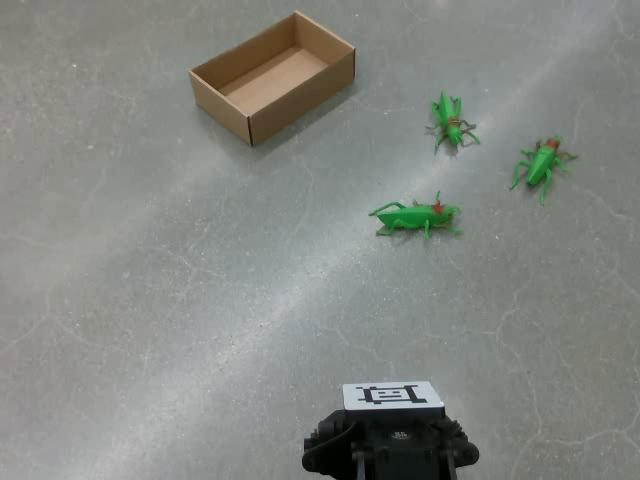box: (187, 9, 356, 147)
grasshopper: (508, 135, 577, 206), (367, 189, 463, 240), (423, 89, 480, 155)
